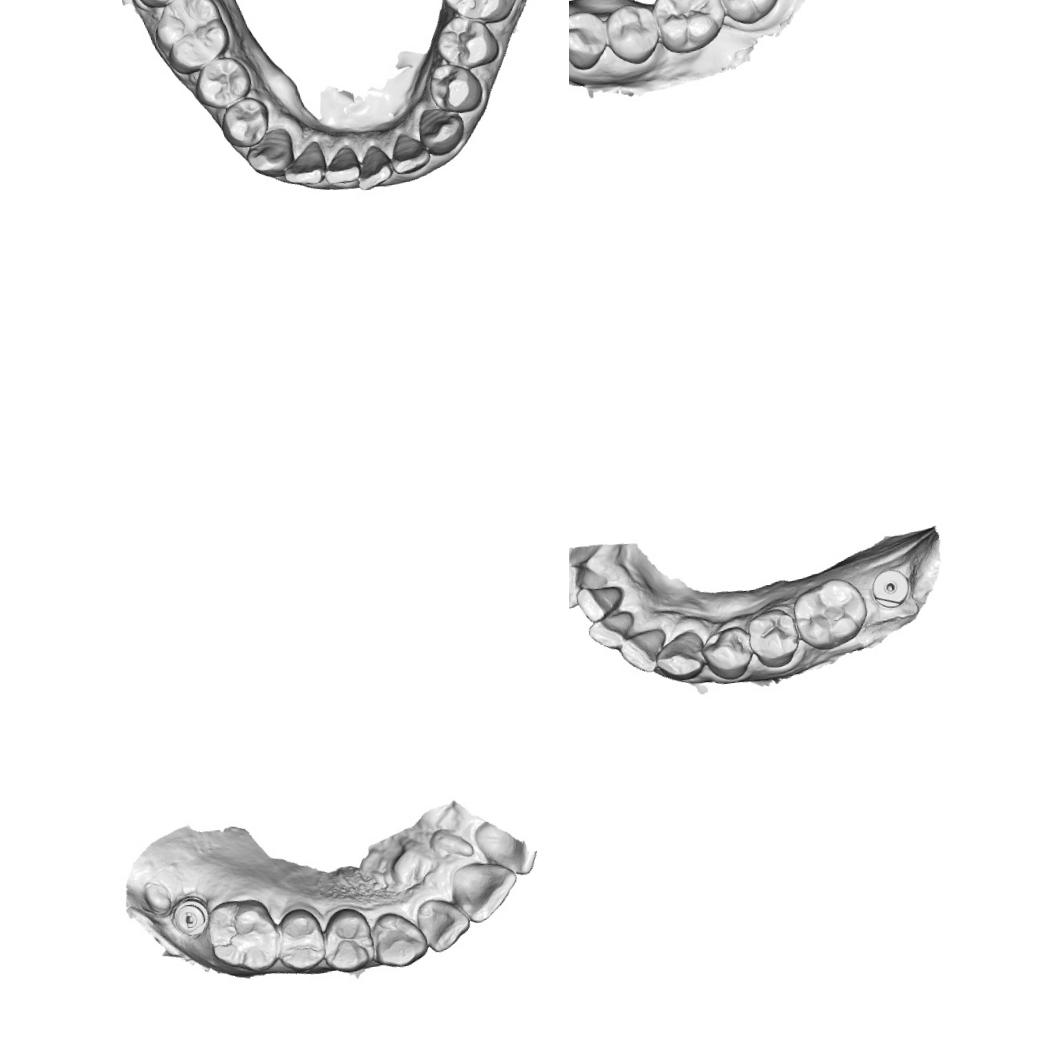canine: (367, 904, 432, 972), (235, 121, 300, 185), (650, 625, 709, 685), (414, 102, 468, 160)
implant: (866, 564, 916, 616)
implant_minus: (170, 891, 214, 941)
incisor: (448, 855, 524, 927), (468, 813, 540, 882), (412, 890, 476, 956), (612, 623, 669, 678), (584, 606, 640, 659), (278, 138, 330, 192), (350, 134, 396, 194), (574, 581, 628, 627), (386, 126, 432, 178), (318, 141, 364, 193), (569, 558, 613, 611)
molar: (200, 892, 286, 980), (148, 0, 235, 79), (788, 574, 873, 654), (649, 0, 731, 59), (432, 0, 529, 30), (710, 0, 786, 29)
premolar: (316, 902, 379, 976), (432, 8, 502, 74), (272, 902, 330, 977), (604, 0, 665, 71), (694, 619, 758, 685), (744, 603, 804, 673), (190, 51, 256, 112), (425, 58, 486, 119), (216, 93, 274, 152), (569, 5, 615, 77)
